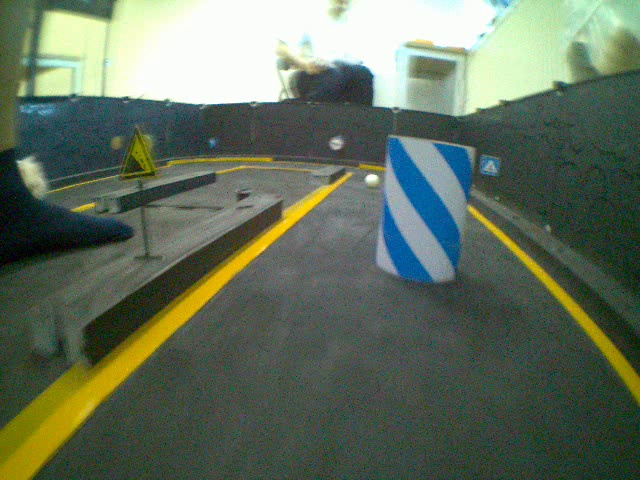bucket: (377, 131, 477, 286)
